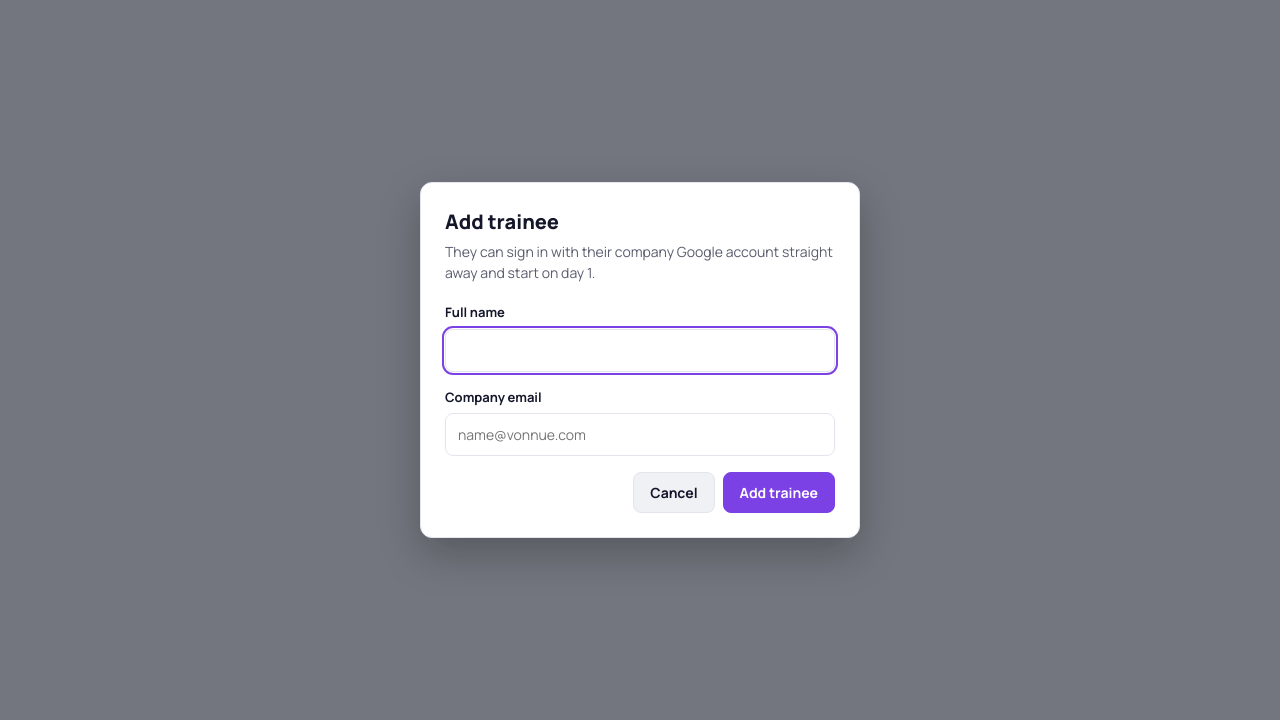
Test: AddTraineeDialog › shows field errors and sends nothing when the form is empty
The width and height of the screenshot is (1280, 720).
Click the button "Add trainee": (779, 492) [723,472,835,513]
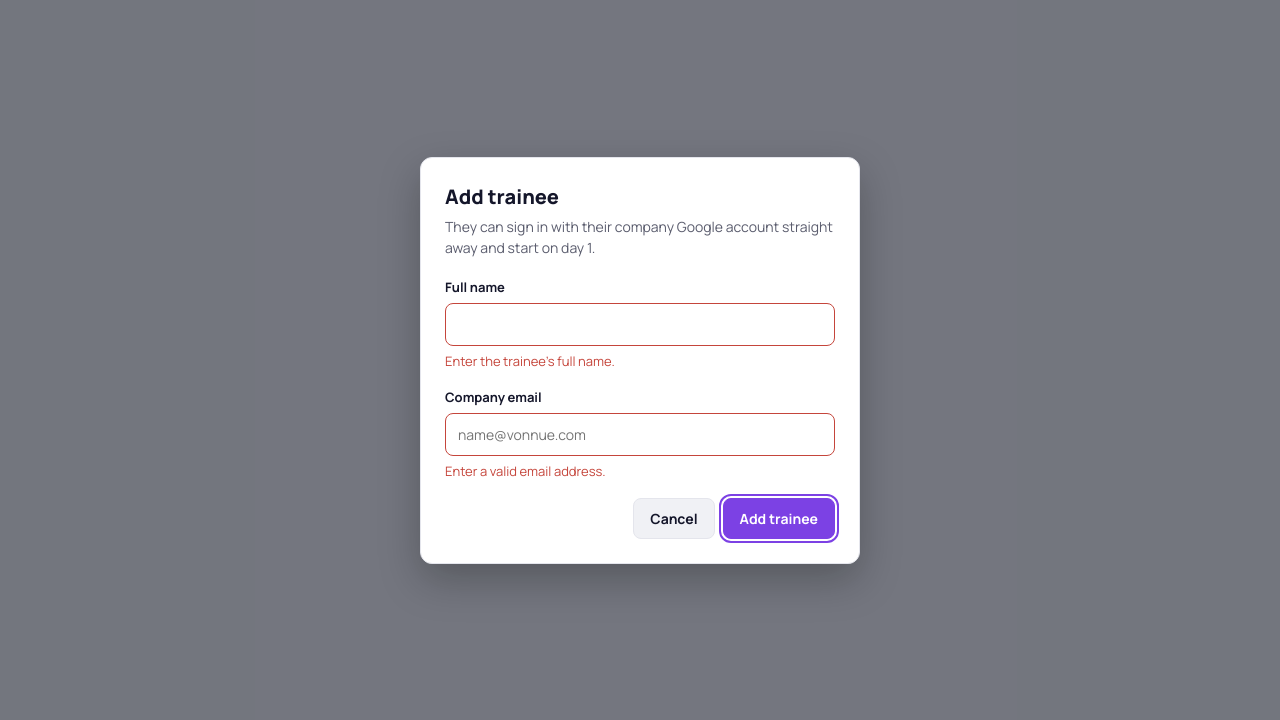
Check: the text "Enter the trainee’s full name." is shown, box [445,352,615,370]
Check: the text "Enter a valid email address." is shown, box [445,462,606,480]
